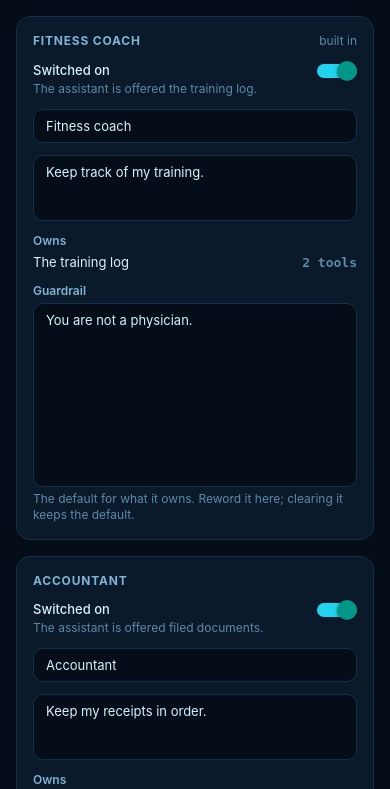
it: switches an agent off and redraws from the answer, not from the press
Step 1. Click the switch with test id "agent-1-enabled" → {"x": 337, "y": 71}, box [317, 61, 357, 81]
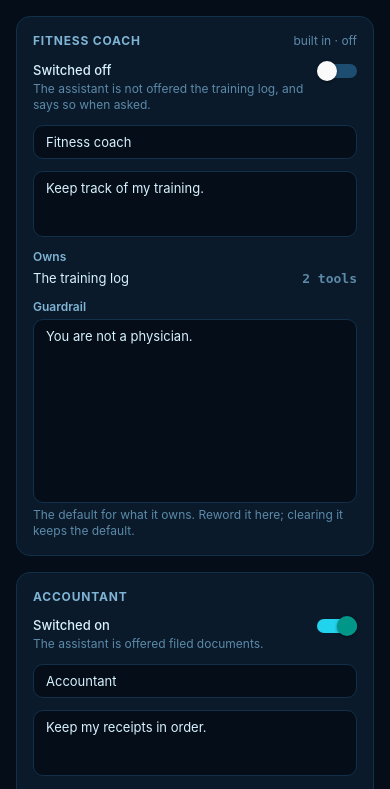
Now the text with test id "agent-1-effect" reads "The assistant is not offered the training log, and says so when asked.", box [33, 81, 307, 112]
